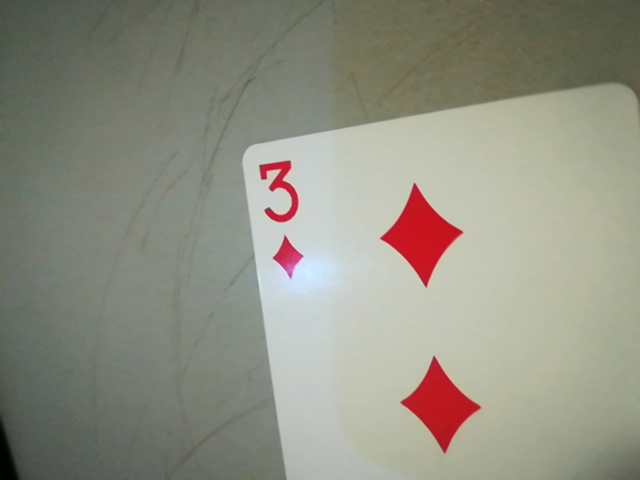fk 3: (248, 148, 316, 285)
